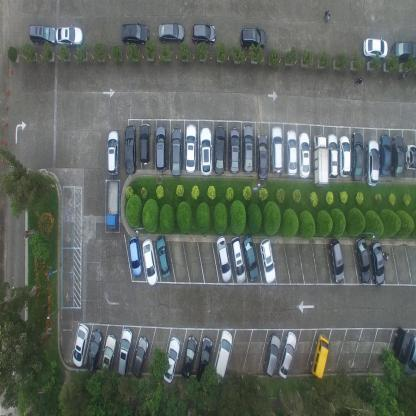car: (390, 326, 413, 375), (213, 328, 232, 385), (276, 330, 298, 379), (195, 335, 213, 387), (312, 132, 329, 187), (310, 333, 330, 379), (162, 336, 180, 384), (263, 332, 281, 378), (117, 327, 133, 377), (85, 327, 102, 374), (216, 234, 232, 283), (259, 238, 276, 284), (354, 236, 371, 282), (99, 333, 116, 379), (72, 322, 89, 368), (131, 335, 149, 378), (142, 238, 158, 286), (230, 236, 246, 284), (242, 234, 258, 281), (181, 334, 198, 378), (350, 130, 364, 183), (106, 179, 120, 232), (184, 122, 198, 174), (123, 123, 137, 175), (328, 238, 344, 283), (369, 239, 385, 284), (155, 235, 171, 279), (120, 21, 149, 45), (27, 23, 57, 46), (55, 24, 83, 48), (156, 20, 184, 44), (365, 137, 379, 185), (191, 21, 217, 46), (391, 39, 416, 65), (199, 126, 212, 176), (391, 134, 405, 180), (106, 129, 120, 175), (241, 25, 266, 50), (364, 34, 388, 60), (270, 125, 283, 173), (170, 126, 182, 178), (338, 134, 352, 176), (326, 131, 338, 180), (256, 133, 268, 182), (378, 133, 391, 178), (298, 131, 310, 179), (285, 128, 297, 176), (243, 123, 254, 175), (129, 235, 142, 278), (155, 123, 166, 173), (214, 125, 225, 174), (229, 126, 240, 174), (403, 336, 416, 376), (139, 122, 150, 165), (405, 141, 416, 171)
